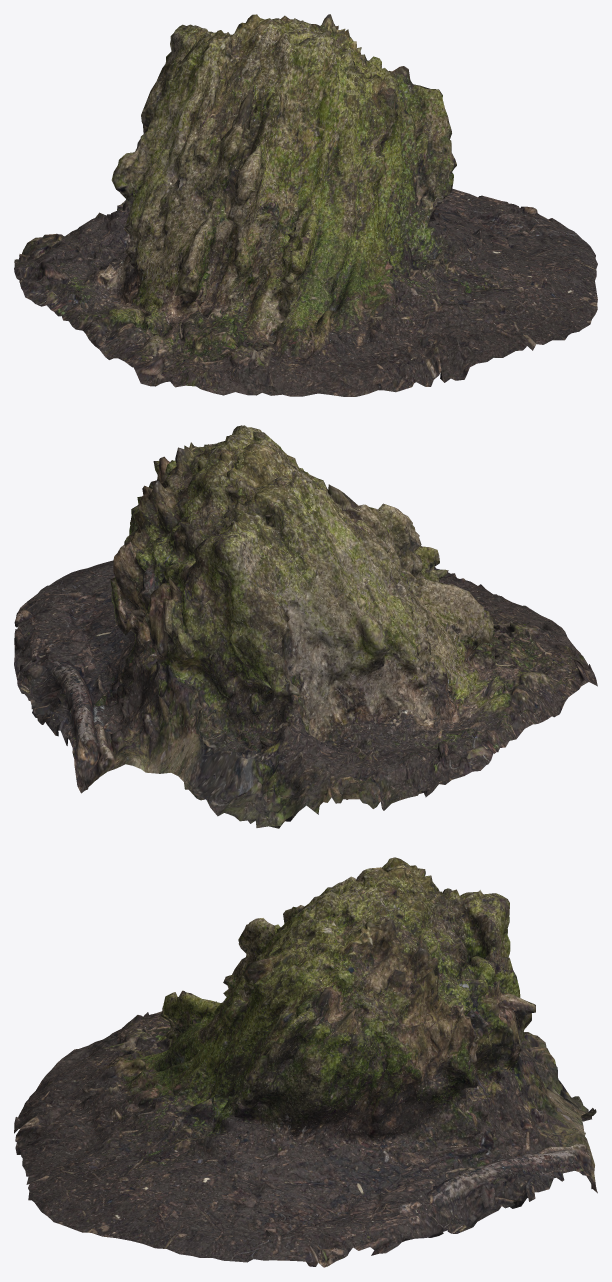
File: PX_Stump_11_LOD1.fbx
The picture shows the model from 3 angles, top to bottom: view 1: azimuth 30°, elevation 25°; view 2: azimuth 150°, elevation 25°; view 3: azimuth 270°, elevation 25°; orthographic projection. The views are drawn at different scales.
Visible parts, largest first — view 1: PX_Stump_11_LOD1; view 2: PX_Stump_11_LOD1; view 3: PX_Stump_11_LOD1.
Boxes of the visible parts, x1=… form: PX_Stump_11_LOD1: x1=14, y1=14, x2=597, y2=396; PX_Stump_11_LOD1: x1=14, y1=425, x2=597, y2=828; PX_Stump_11_LOD1: x1=14, y1=857, x2=597, y2=1267.
Bounding box in the file's own units: 55.33 × 29.48 × 53.39.
